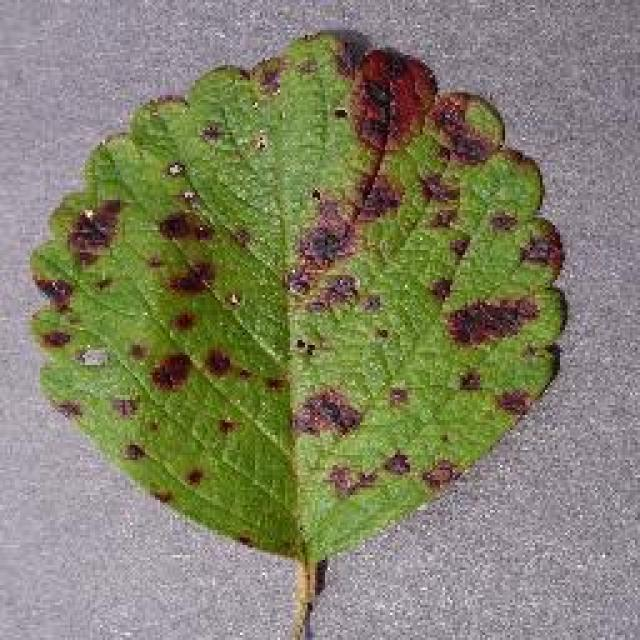Strawberry leaf scorch: (83, 83, 520, 457)
